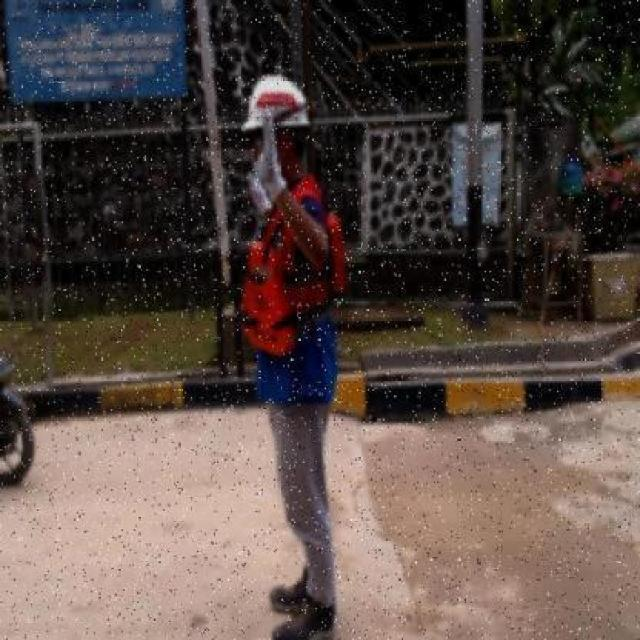Boots: (268, 592, 340, 640), (270, 568, 312, 614)
Gloves: (250, 110, 286, 201), (239, 157, 272, 212)
Helmet: (237, 72, 314, 132)
Mask: (240, 209, 348, 357)
